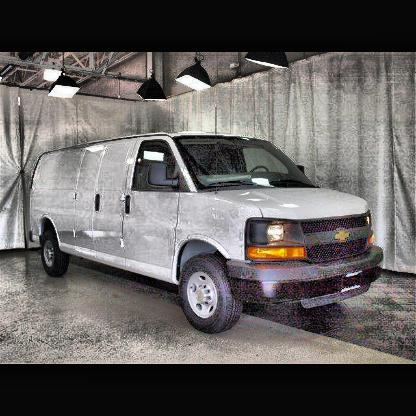GMC Savana Van 2012: (28, 131, 384, 337)
